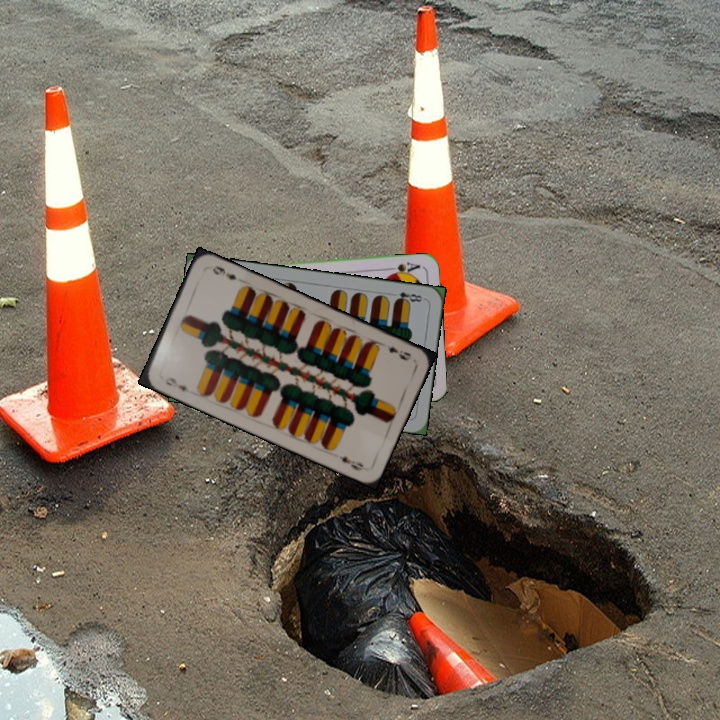E8: (387, 288, 427, 306)
E9: (383, 341, 415, 363), (161, 373, 192, 395)
SA: (384, 258, 423, 278)
